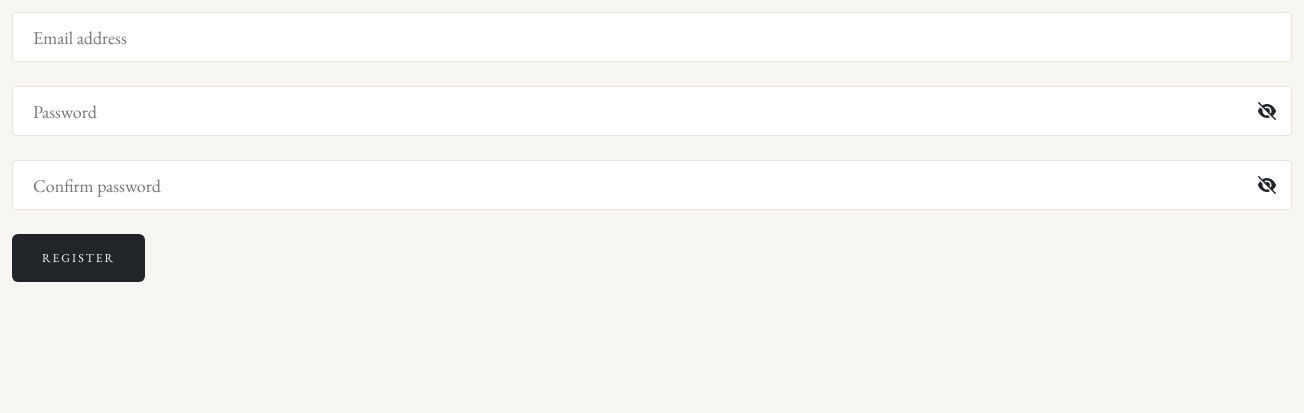
Test: RegisterForm component › shows error message for password less than 8 characters
This screenshot has width=1304, height=413.
Type "pass" into the password field labelled "Password" at (652, 111), box [12,86,1292,136]
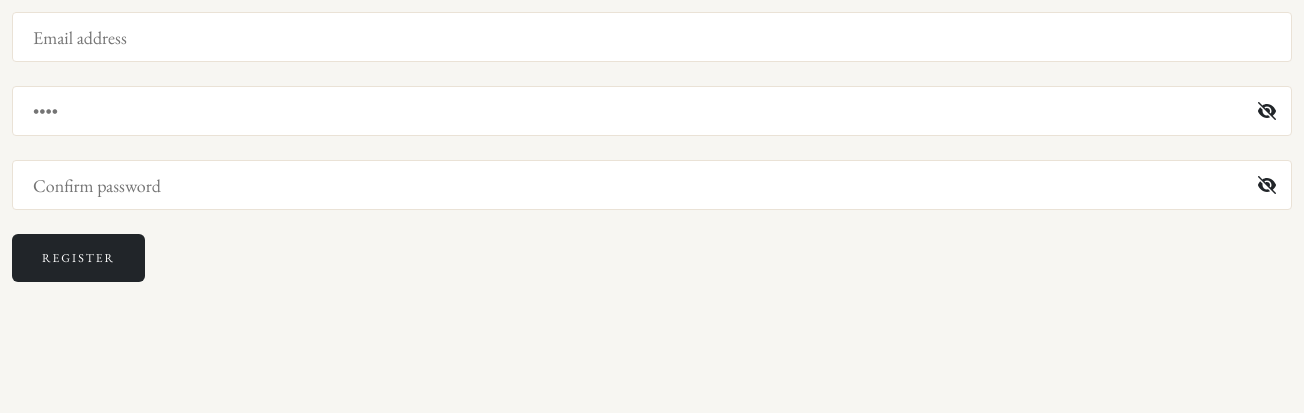
Click the button "Register" at (79, 258), box [12,234,145,282]
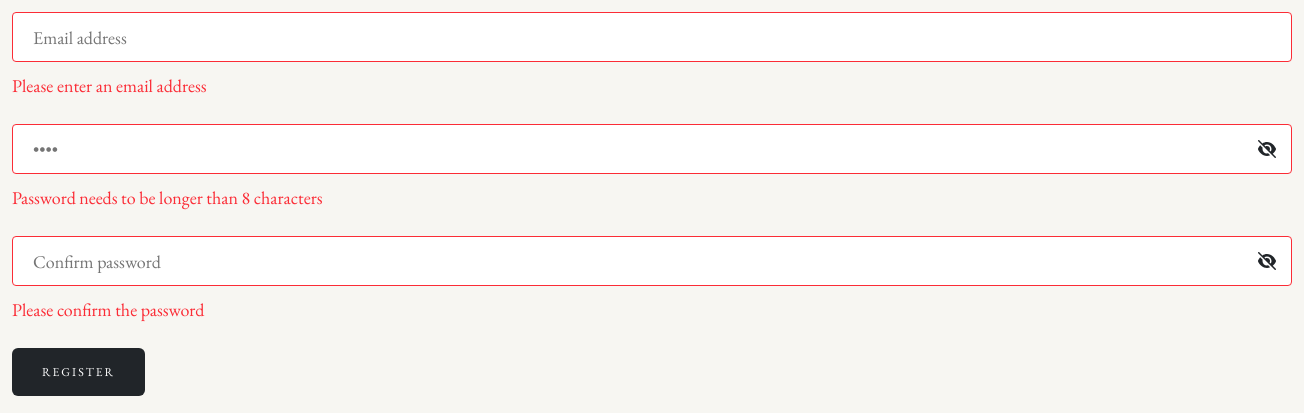
expect the text "Password needs to be longer than 8 characters" is shown: met, box [12,186,323,209]
